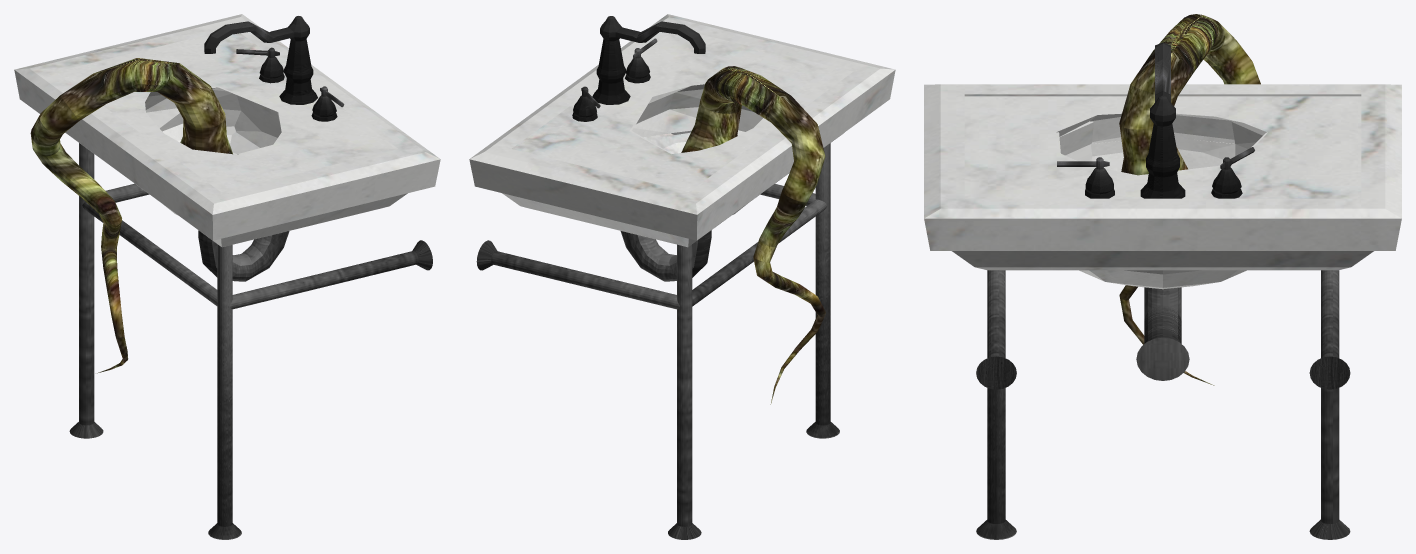
The model's file is sink_model2.fbx.
The picture shows the model from 3 angles, left to right: view 1: azimuth 30°, elevation 25°; view 2: azimuth 150°, elevation 25°; view 3: azimuth 270°, elevation 25°; orthographic projection. The views are drawn at different scales.
Visible parts, largest first — view 1: polySurface2; view 2: polySurface2; view 3: polySurface2.
Boxes of the visible parts, left/top/right/bottom form: polySurface2: left=14, top=14, right=440, bottom=539; polySurface2: left=469, top=14, right=895, bottom=539; polySurface2: left=924, top=14, right=1401, bottom=539.
Size of the model in its own units: 0.1711 by 0.2456 by 0.2009.
